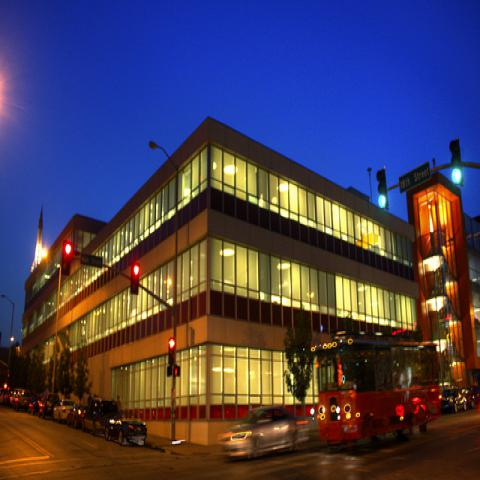bus: (313, 328, 444, 443)
car: (220, 403, 310, 460), (105, 412, 147, 445), (82, 398, 118, 436), (442, 388, 467, 415), (52, 400, 76, 423), (42, 392, 60, 420), (66, 406, 86, 429), (13, 390, 31, 414), (461, 385, 479, 409), (28, 395, 43, 416), (10, 389, 24, 408)
